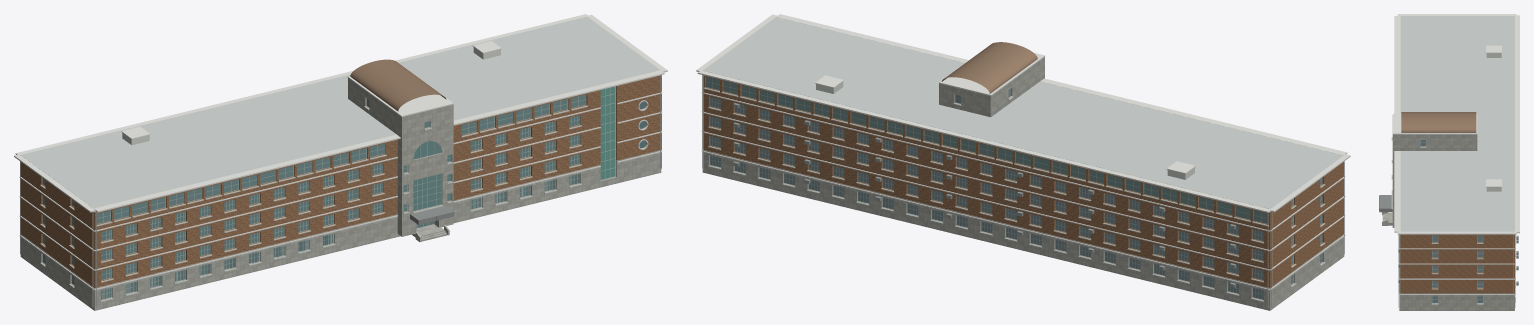
The picture shows the model from 3 angles, left to right: view 1: azimuth 30°, elevation 25°; view 2: azimuth 150°, elevation 25°; view 3: azimuth 270°, elevation 25°; orthographic projection. The views are drawn at different scales.
Visible parts, largest first — view 1: main__roof, main__brick, main__stone, main__band, main__glass, main__frame, main__upperglass, main__sill, main__metalroof, main__towerglass, main__coreglass, main__steel (+1 smaller); view 2: main__roof, main__brick, main__stone, main__band, main__backglass, main__frame, main__upperglass, main__sill, main__metalroof, main__joint, main__steel; view 3: main__roof, main__brick, main__band, main__stone, main__metalroof, main__backglass, main__steel, main__frame, main__sill, main__entry, main__plaster.
Part boxes in pixels (left/top/right/bottom): main__roof: left=21, top=16, right=659, bottom=208; main__brick: left=20, top=75, right=661, bottom=287; main__stone: left=20, top=78, right=661, bottom=310; main__band: left=14, top=14, right=667, bottom=290; main__glass: left=101, top=115, right=579, bottom=299; main__frame: left=42, top=86, right=615, bottom=299; main__upperglass: left=97, top=94, right=585, bottom=223; main__sill: left=40, top=105, right=587, bottom=301; main__metalroof: left=350, top=59, right=446, bottom=111; main__towerglass: left=403, top=121, right=450, bottom=211; main__coreglass: left=600, top=86, right=615, bottom=179; main__steel: left=20, top=75, right=661, bottom=307; main__roof: left=703, top=17, right=1343, bottom=208; main__brick: left=702, top=75, right=1343, bottom=287; main__stone: left=702, top=57, right=1344, bottom=310; main__band: left=696, top=14, right=1350, bottom=290; main__backglass: left=710, top=89, right=1322, bottom=299; main__frame: left=706, top=78, right=1322, bottom=299; main__upperglass: left=706, top=76, right=1267, bottom=223; main__sill: left=703, top=87, right=1325, bottom=301; main__metalroof: left=941, top=42, right=1037, bottom=93; main__joint: left=733, top=103, right=1235, bottom=287; main__steel: left=702, top=75, right=1344, bottom=307; main__roof: left=1400, top=16, right=1514, bottom=231; main__brick: left=1399, top=234, right=1514, bottom=293; main__band: left=1393, top=14, right=1519, bottom=294; main__stone: left=1382, top=115, right=1514, bottom=310; main__metalroof: left=1401, top=112, right=1476, bottom=132; main__backglass: left=1420, top=140, right=1482, bottom=302; main__steel: left=1398, top=235, right=1515, bottom=308; main__frame: left=1420, top=140, right=1483, bottom=303; main__sill: left=1391, top=137, right=1515, bottom=304; main__entry: left=1379, top=195, right=1392, bottom=212; main__plaster: left=1486, top=53, right=1501, bottom=191.
Size of the model in its own units: 104 by 22.92 by 28.11.
18 materials, 2 textured.
